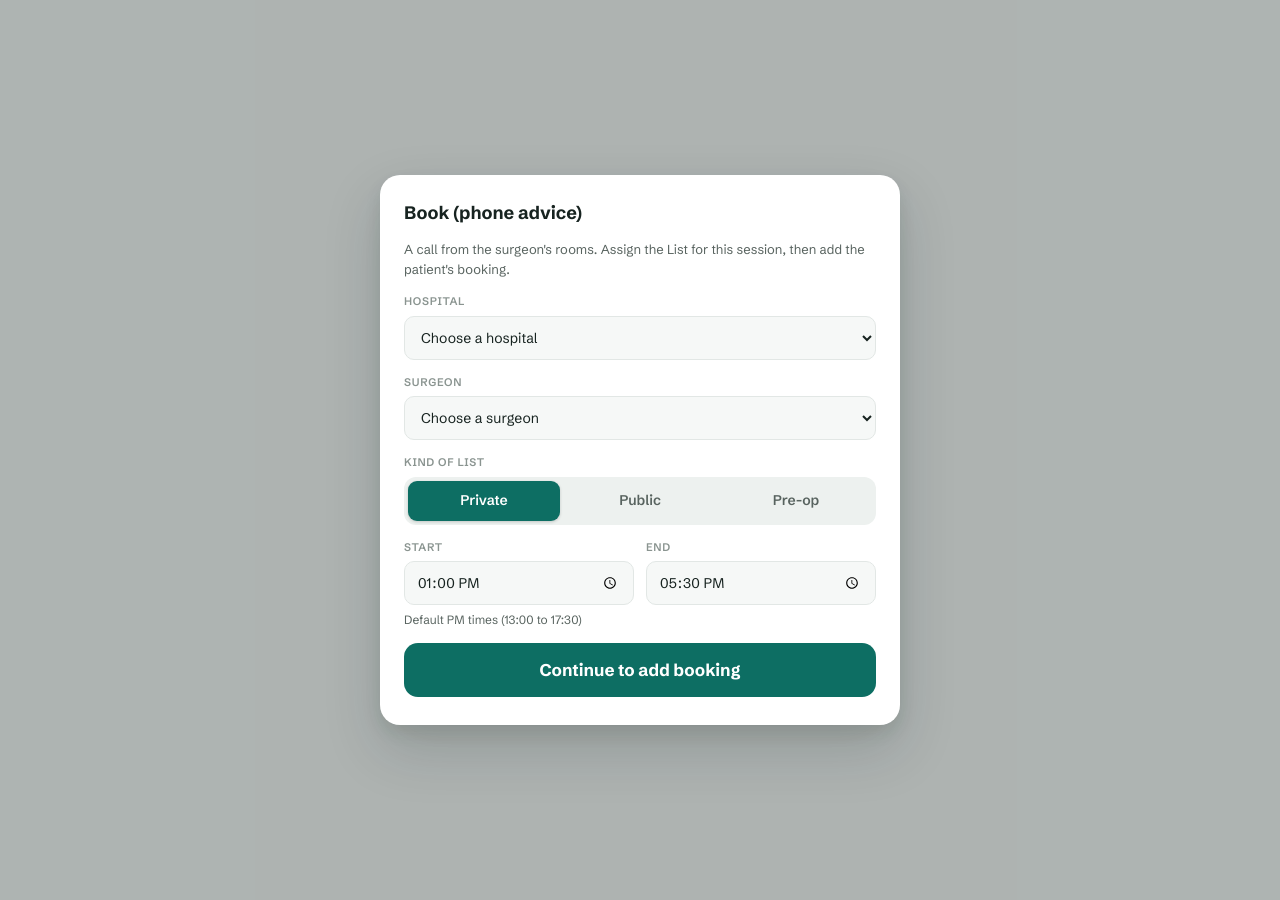
Test: surgeon pickers › Book (phone advice): the surgeon is required; Reid warns with "Continue anyway"; Hale (the S2 path) never does
The width and height of the screenshot is (1280, 900).
Select "Ms A. Reid (Ophthalmology) · not preferred" in the dropdown labelled "Surgeon" at (640, 418), box x1=404 y1=396 x2=876 y2=440
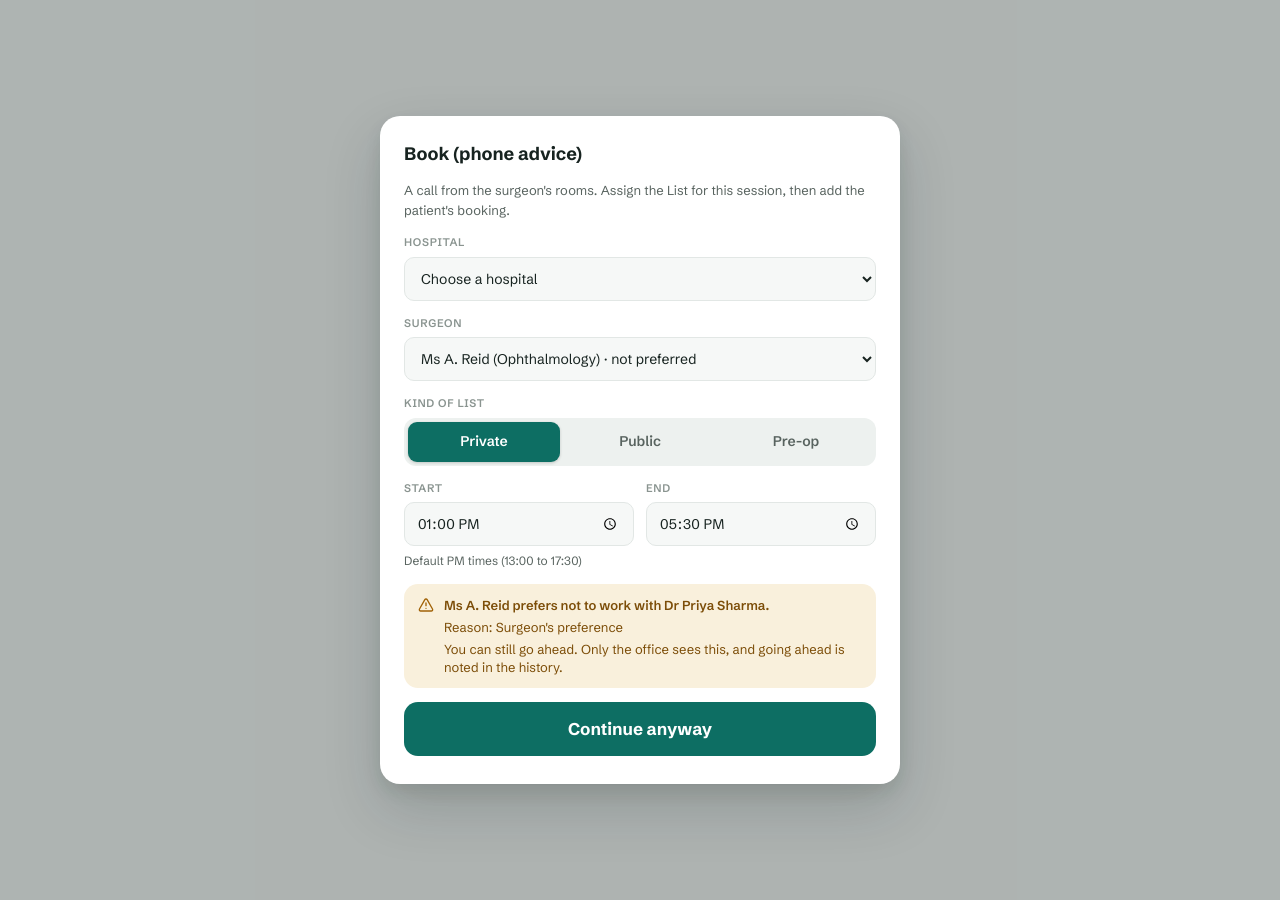
Now the message shows "Reason: Surgeon's preference", box x1=404 y1=584 x2=876 y2=688
Now the button "Continue anyway" is shown, box x1=404 y1=702 x2=876 y2=756
Select "Mr T. Hale (Orthopaedics)" in the dropdown labelled "Surgeon" at (640, 359), box x1=404 y1=337 x2=876 y2=381
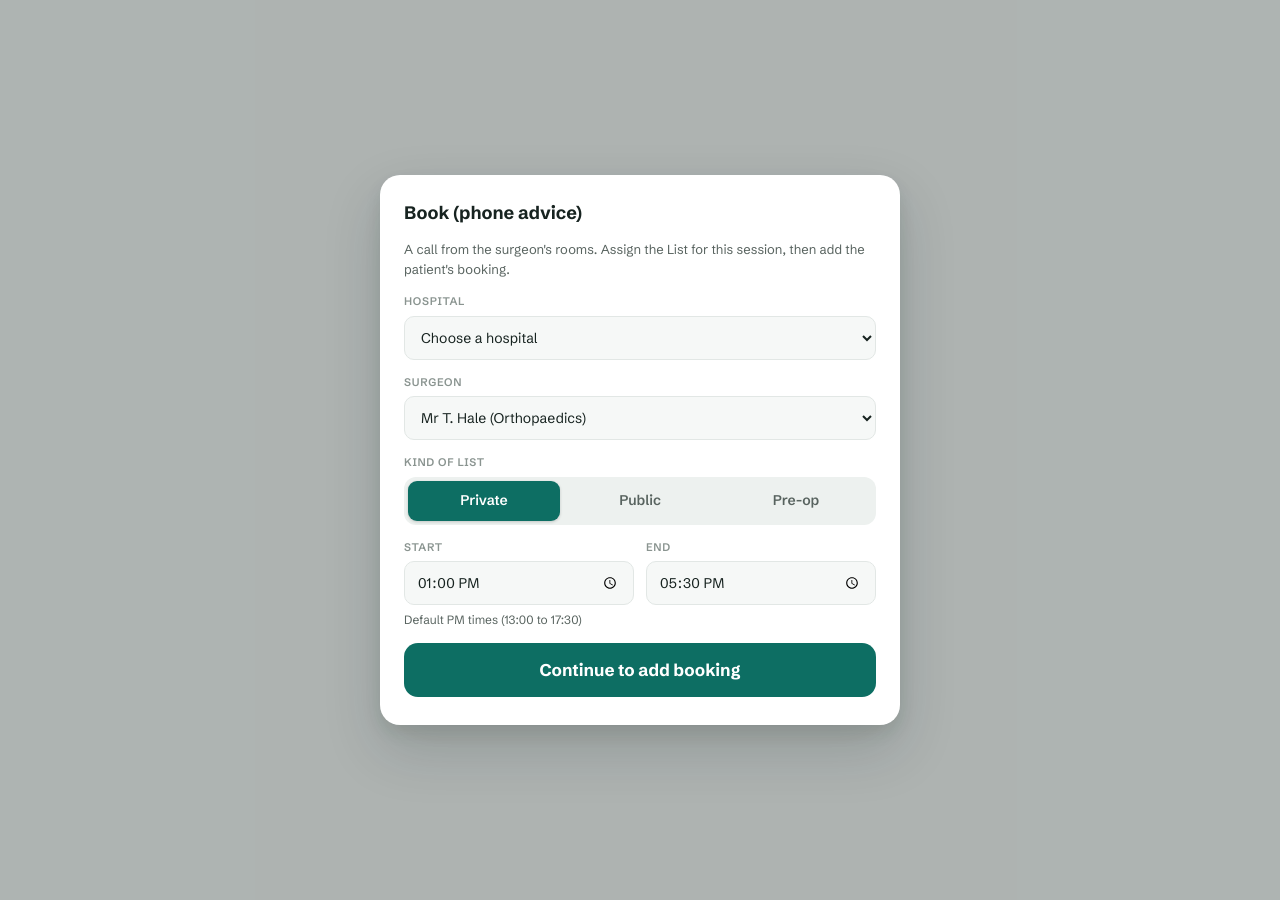
Now the message is gone
Now the button "Continue to add booking" is shown, box x1=404 y1=643 x2=876 y2=697
